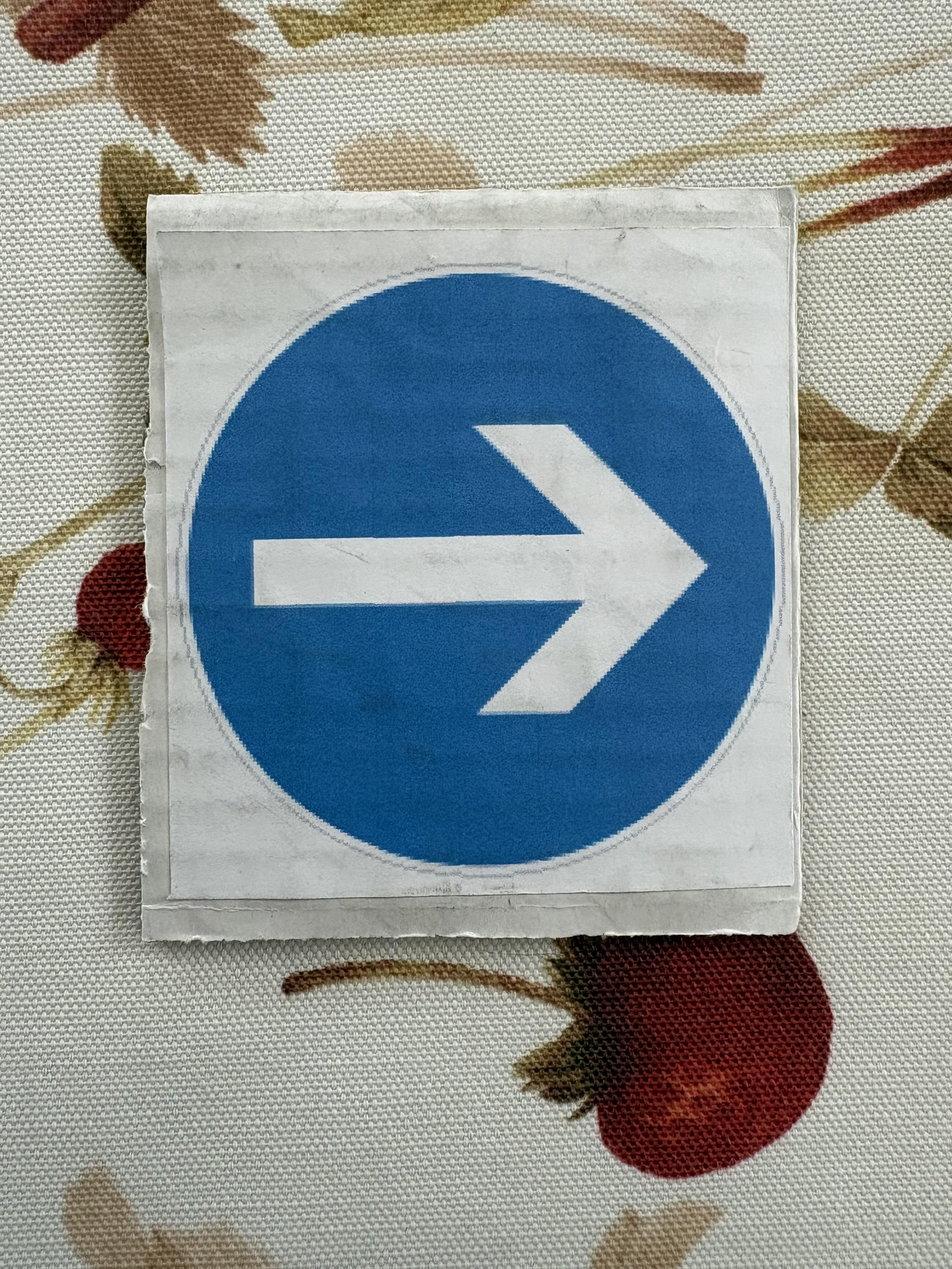Proceed Right: (145, 201, 798, 932)
